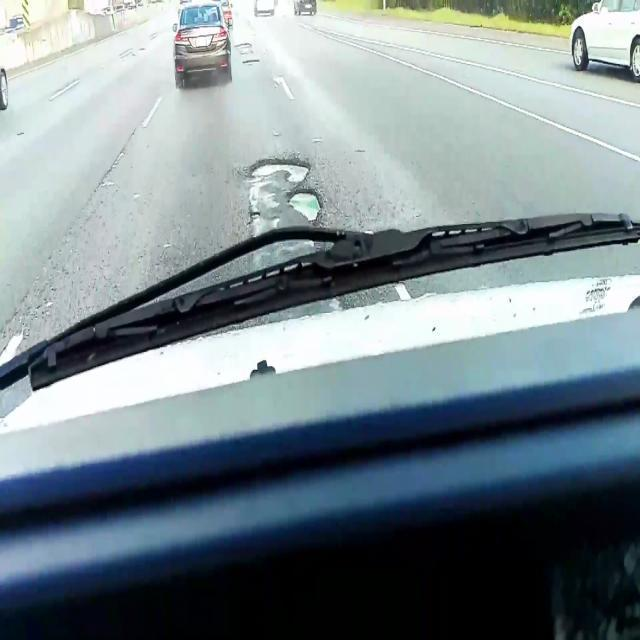pothole: (249, 158, 312, 184), (287, 191, 324, 224), (234, 43, 253, 50), (241, 59, 261, 65)
